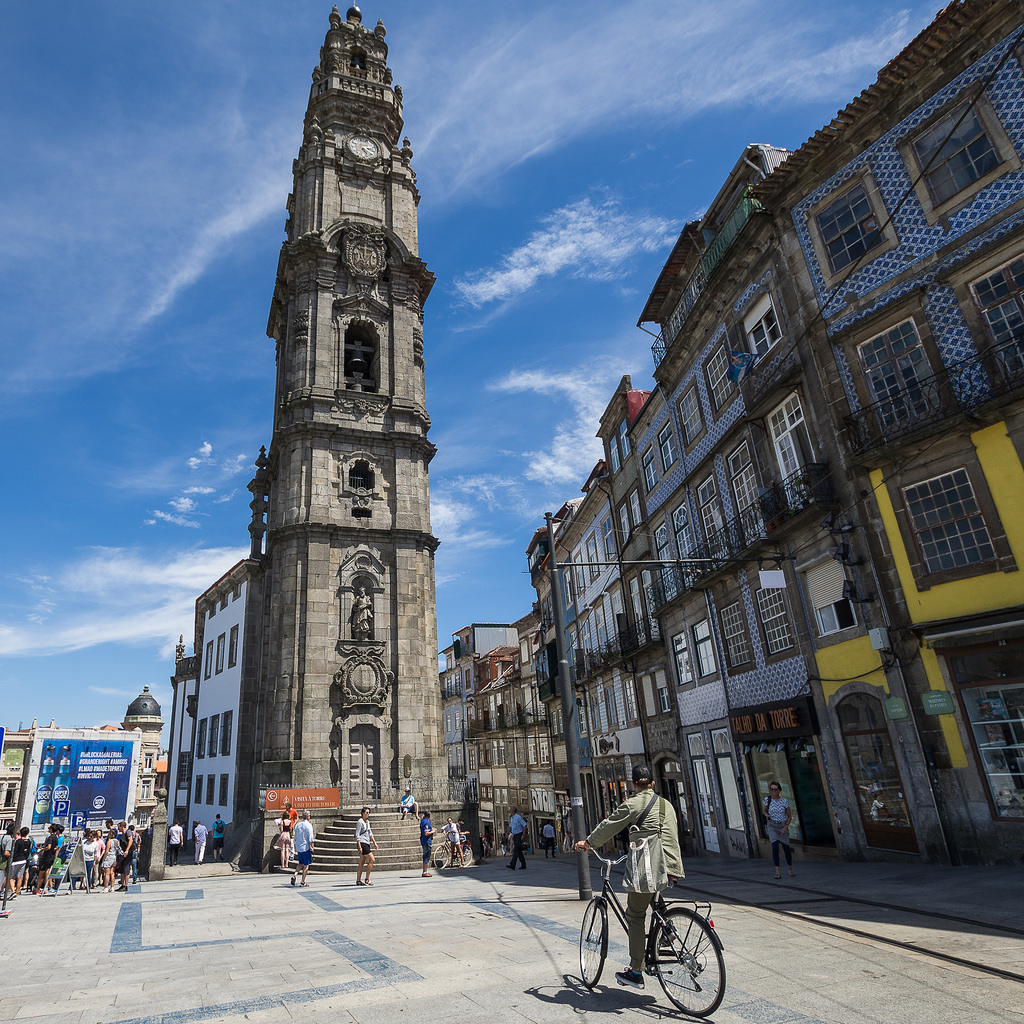clerigos: (244, 0, 446, 803)
